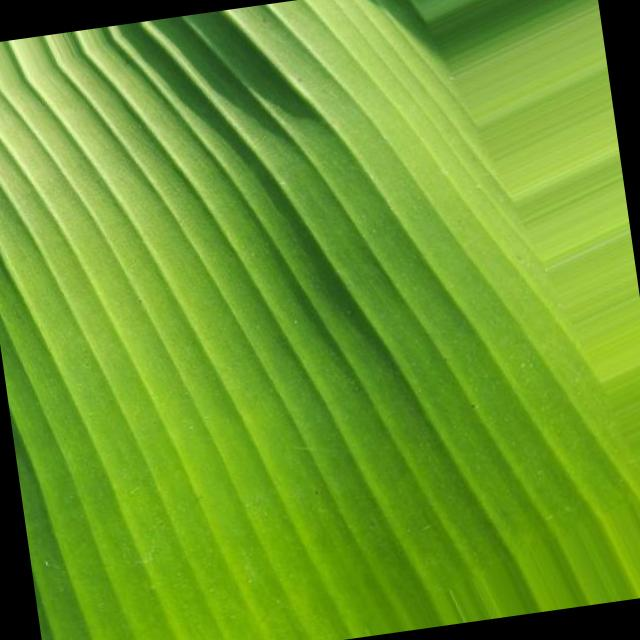Banana_Healthy: (48, 108, 466, 573)
